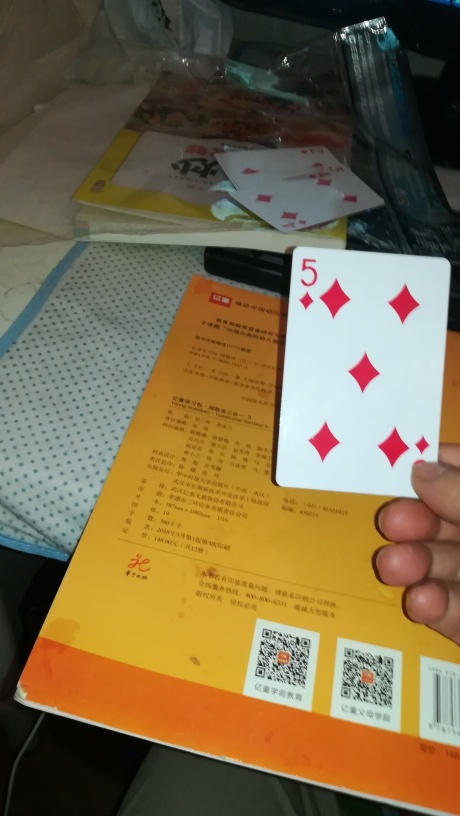fk 5: (273, 245, 460, 503)
